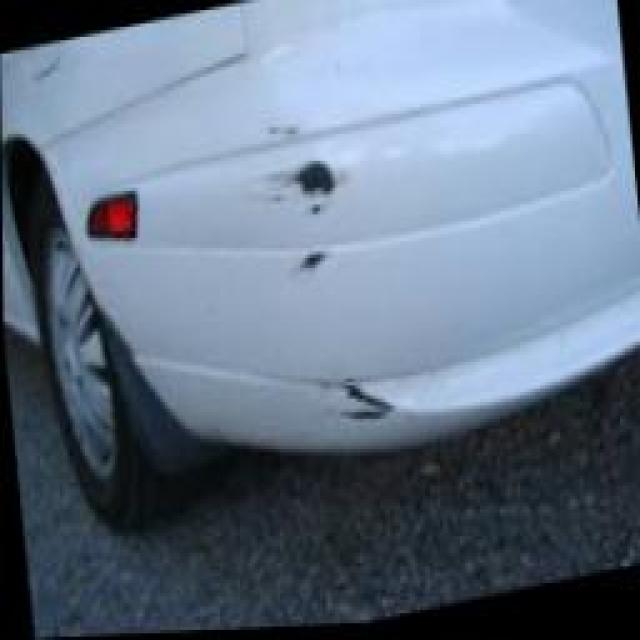Bumper: (208, 44, 441, 485)
